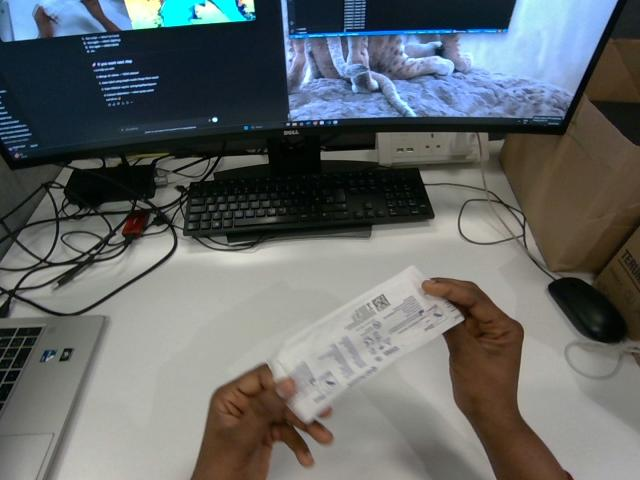syringe: (269, 266, 462, 422)
